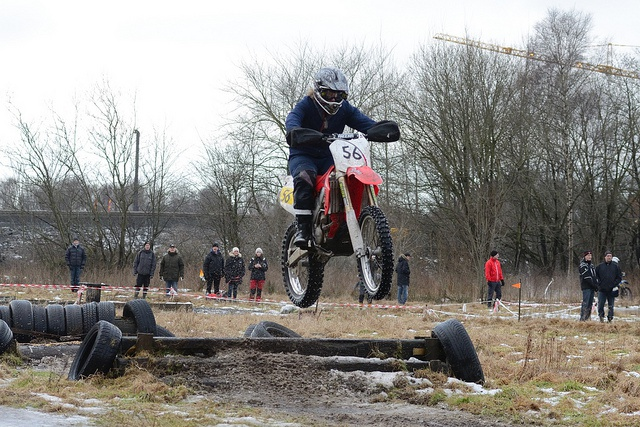non-vehicle: (276, 120, 400, 307), (617, 271, 632, 301)
